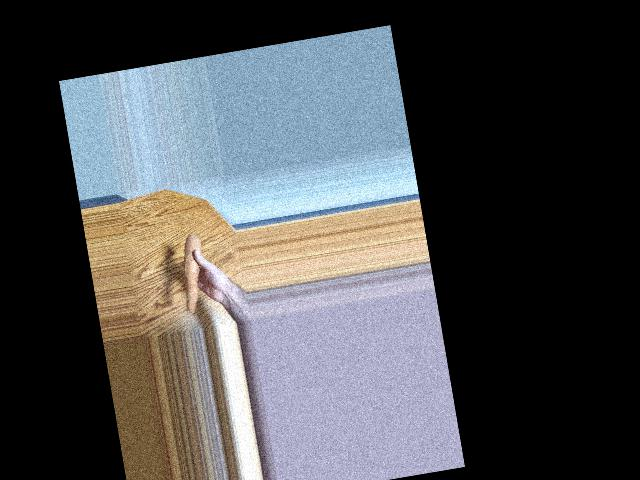sweet_potato: (178, 235, 205, 312)
